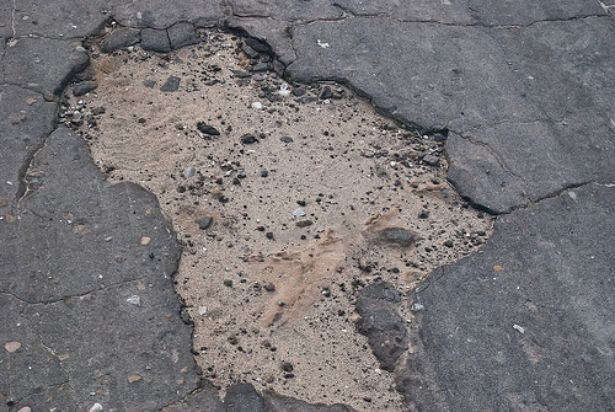pothole: (46, 13, 505, 412)
